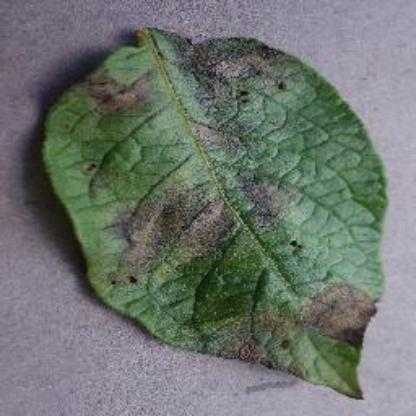Late-Blight: (32, 21, 398, 404)
